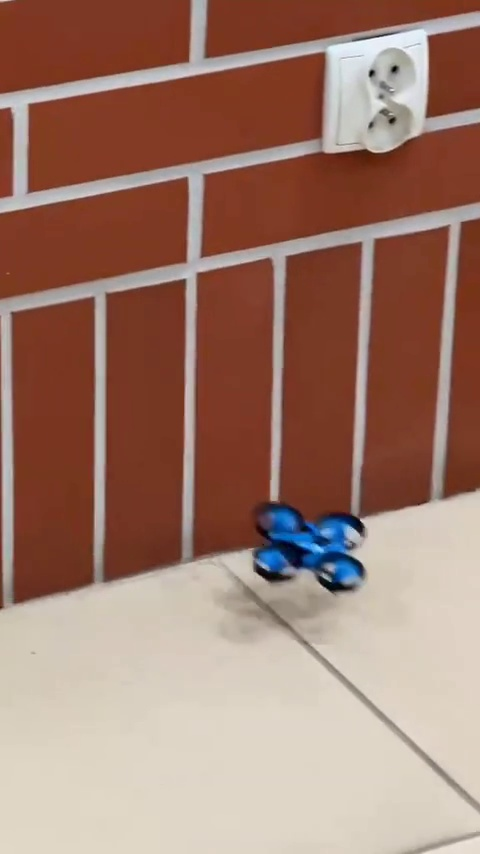drone: (248, 508, 366, 595)
